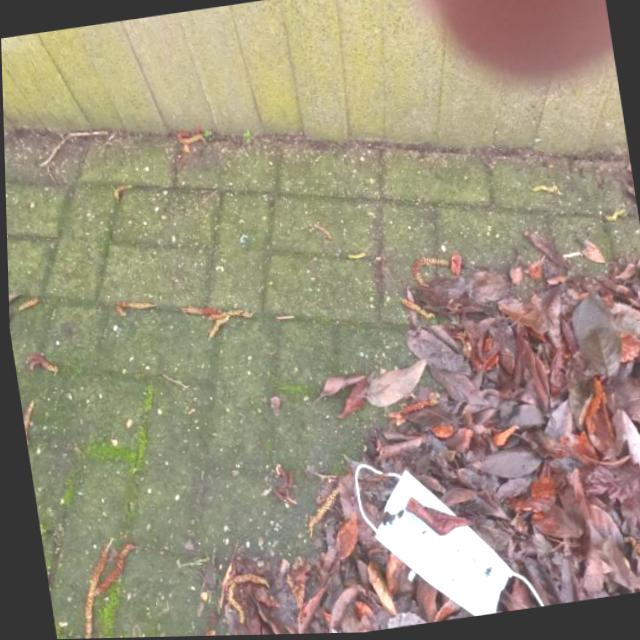Mask: (343, 436, 546, 632)
